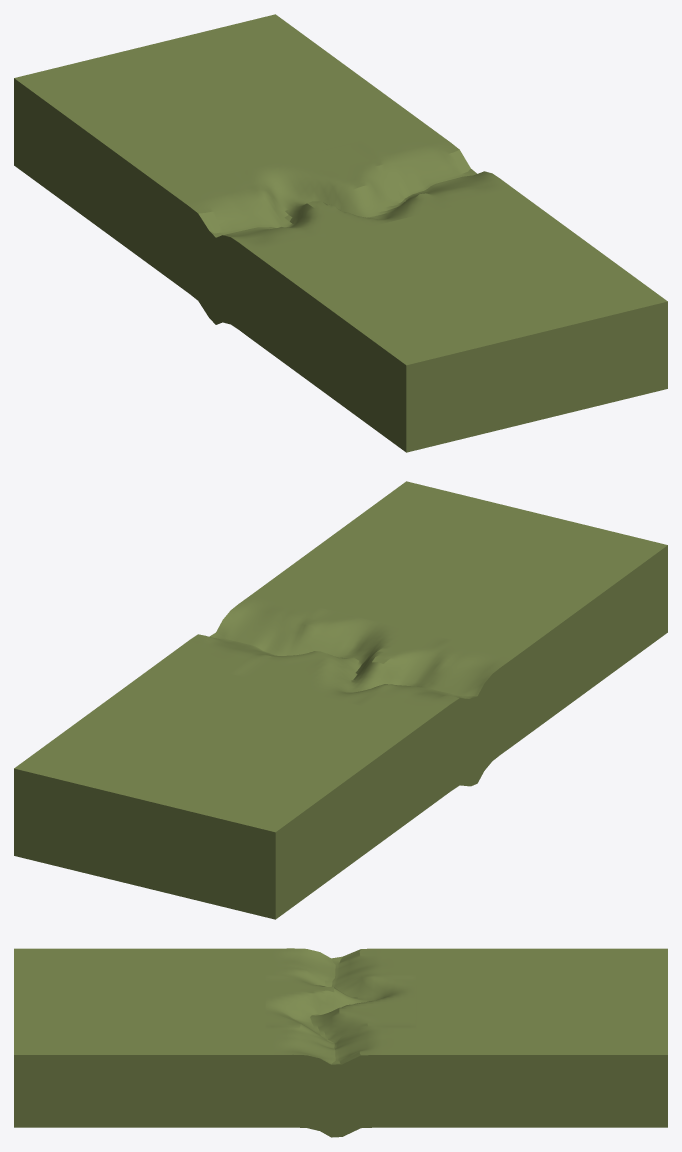
Rendered from Tole_7.fbx.
3 views of the same model, one above another, from view 1: azimuth 30°, elevation 25°; view 2: azimuth 150°, elevation 25°; view 3: azimuth 270°, elevation 25° (orthographic). The views are drawn at different scales.
Parts seen in each view (by area): view 1: tile 1.002; view 2: tile 1.002; view 3: tile 1.002.
Boxes of the visible parts, x1=… form: tile 1.002: x1=14, y1=14, x2=667, y2=452; tile 1.002: x1=14, y1=481, x2=667, y2=919; tile 1.002: x1=14, y1=948, x2=667, y2=1137.
Size of the model in its own units: 5000 by 1817 by 12991.
